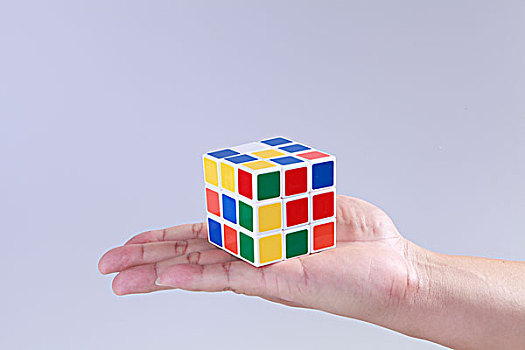cube: (199, 130, 338, 266)
